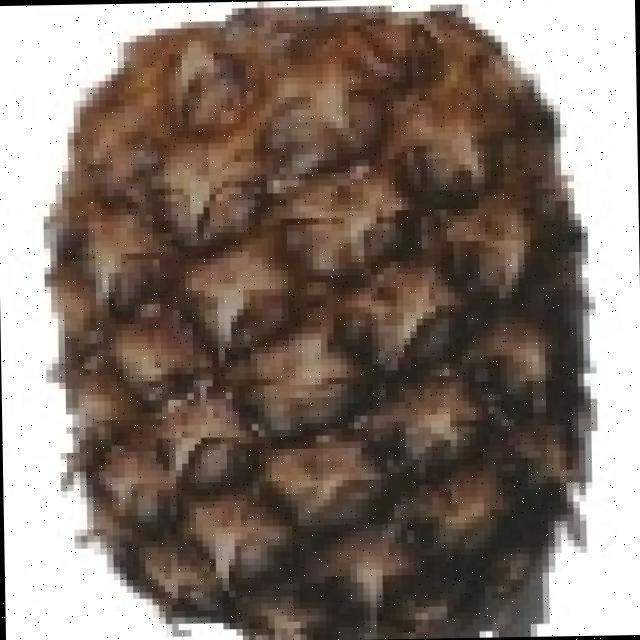pineapple: (43, 2, 578, 629)
